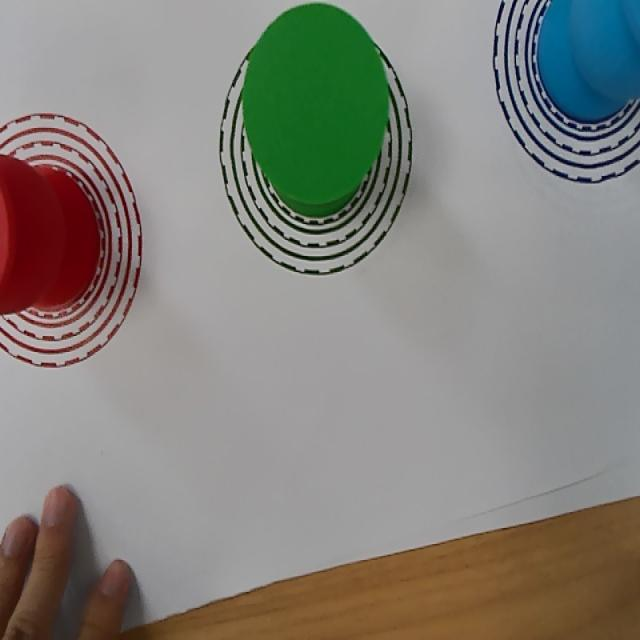g: (244, 5, 388, 201)
